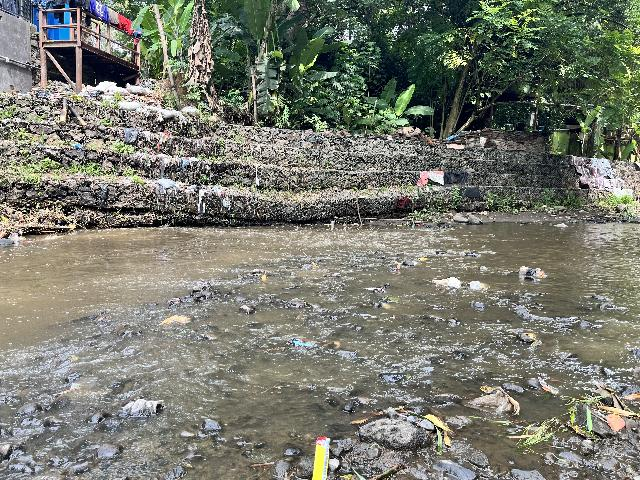Sampah Anorganik: (472, 385, 523, 416), (312, 435, 332, 480), (284, 334, 317, 351), (518, 265, 546, 280), (536, 378, 559, 395), (435, 278, 460, 288), (363, 287, 388, 295), (469, 281, 485, 292), (332, 272, 339, 277), (418, 257, 426, 261)
Sampah Organik: (360, 402, 459, 450), (566, 388, 635, 435), (512, 419, 558, 448), (157, 316, 190, 325), (377, 297, 398, 309), (50, 387, 81, 395), (523, 331, 539, 345), (247, 461, 275, 466), (163, 296, 182, 303), (323, 340, 341, 347), (295, 300, 305, 307), (258, 274, 269, 280), (395, 264, 401, 270), (313, 263, 318, 269)
